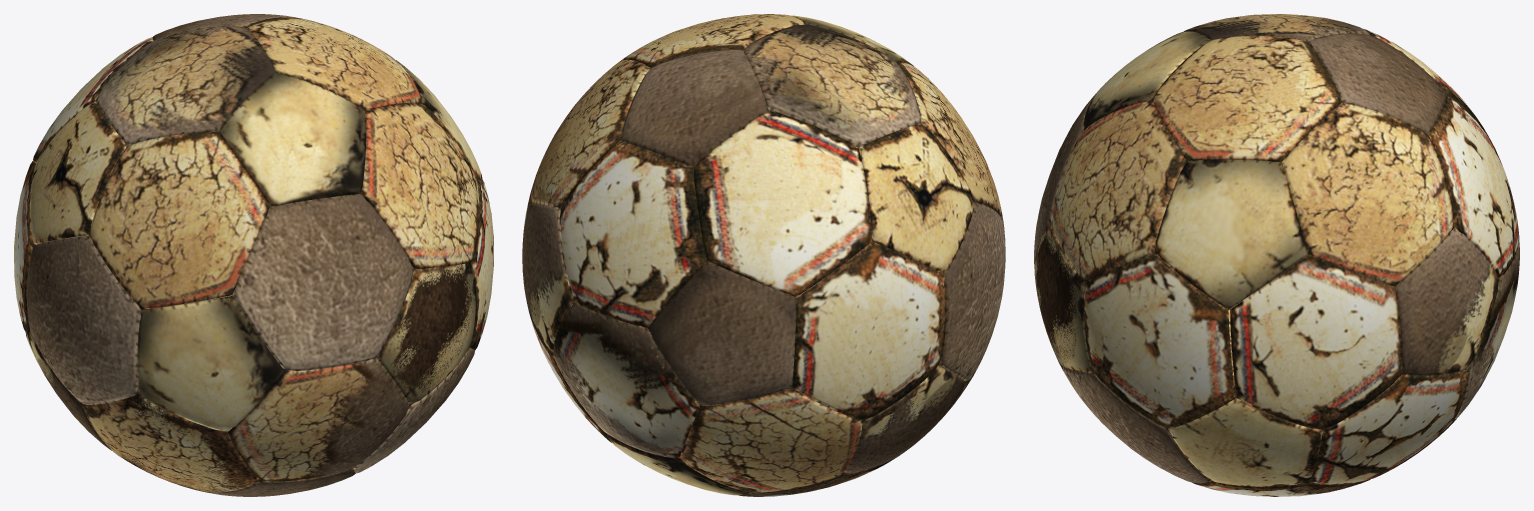
The model's file is ball.obj.
The picture shows the model from 3 angles, left to right: view 1: azimuth 30°, elevation 25°; view 2: azimuth 150°, elevation 25°; view 3: azimuth 270°, elevation 25°; orthographic projection.
Parts seen in each view (by area): view 1: Old_ball; view 2: Old_ball; view 3: Old_ball.
Boxes of the visible parts, x1,y1,x2,y2 form: Old_ball: (14, 14, 493, 496); Old_ball: (522, 14, 1005, 496); Old_ball: (1034, 14, 1519, 496).
Bounding box in the file's own units: 2.82 × 2.82 × 2.82.
Materials: 1 (1 with a texture image).
